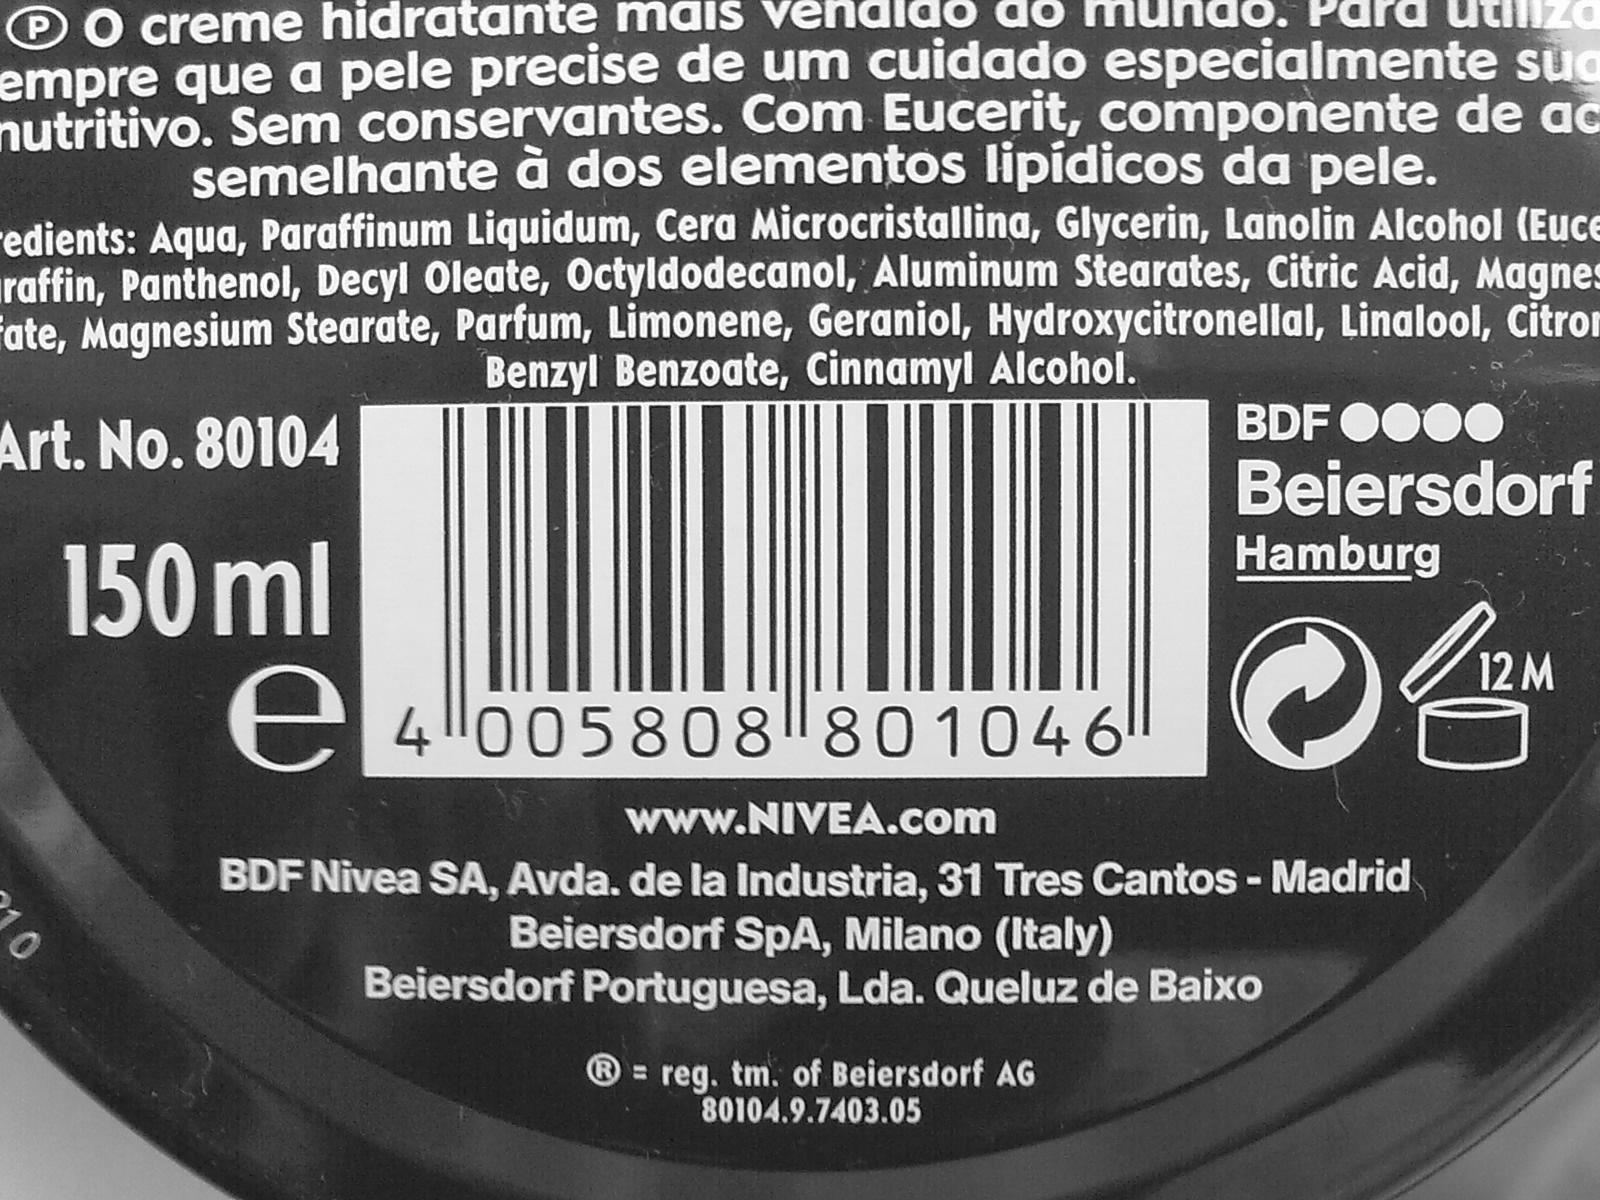Barcode: (387, 407, 1216, 766)
